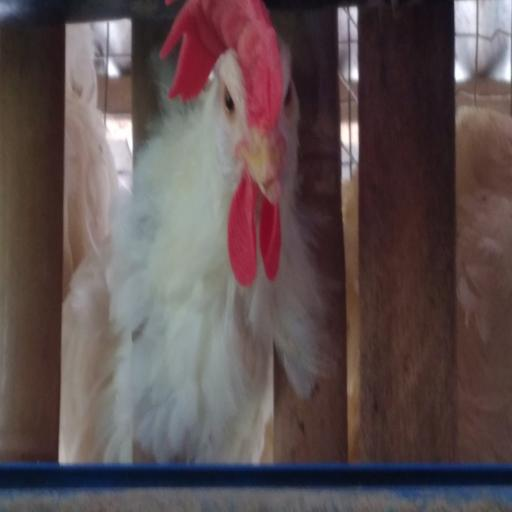healthy: (203, 4, 301, 278)
